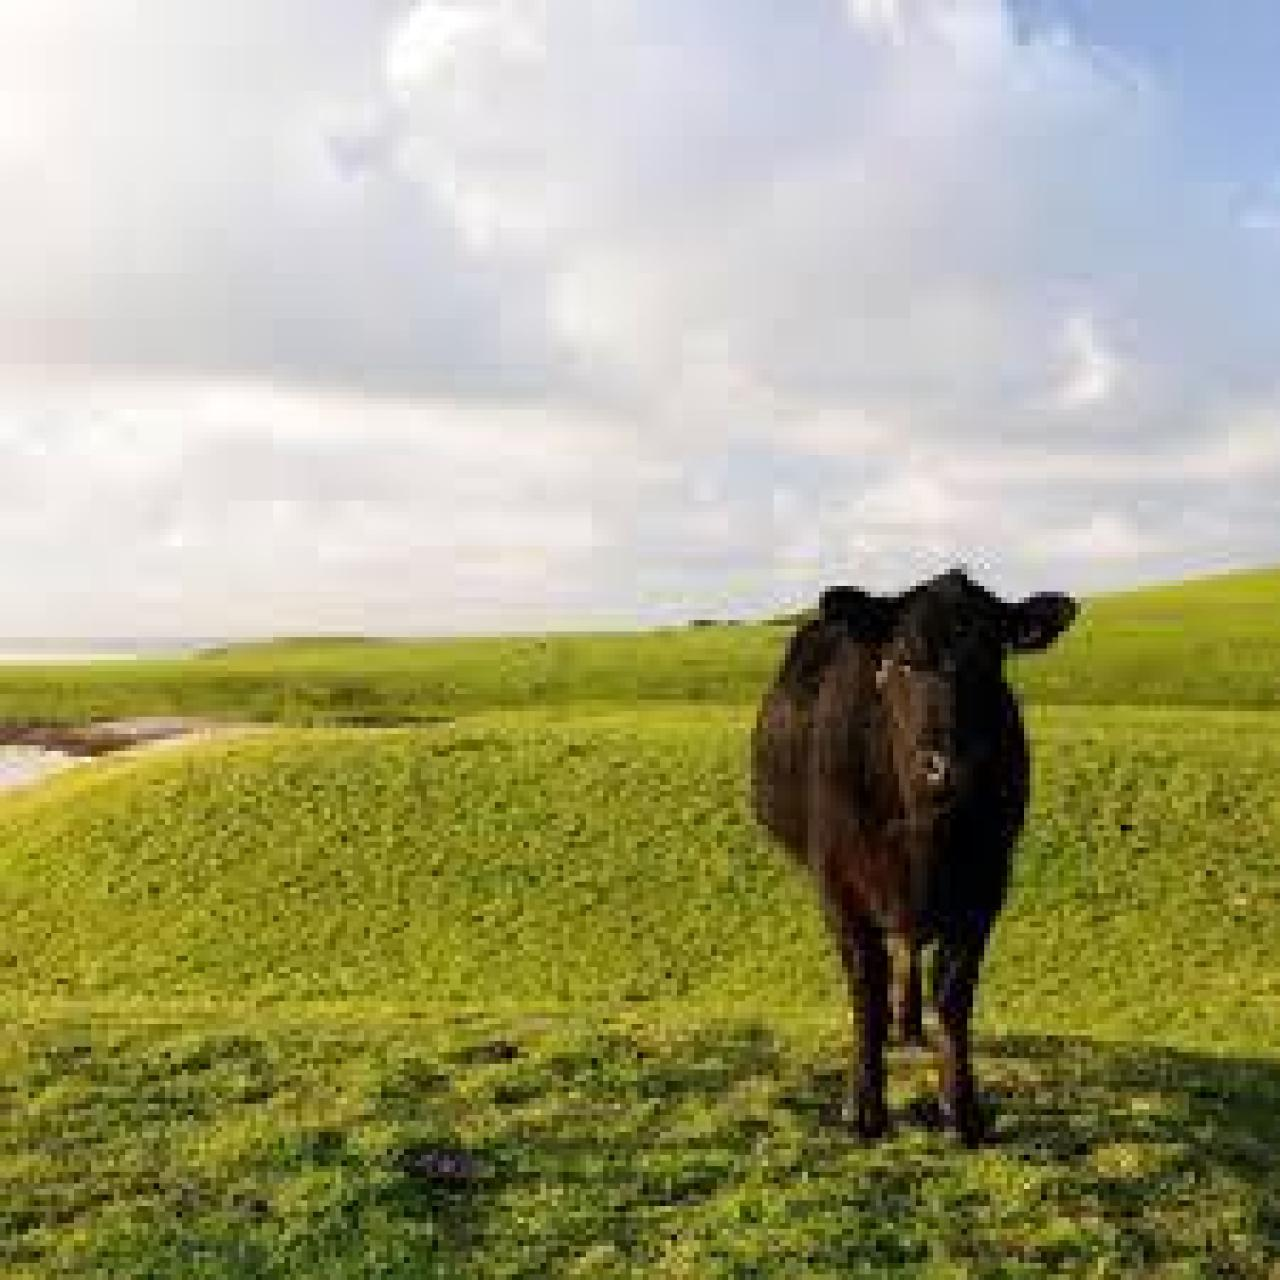cow: (750, 583, 1075, 1135)
